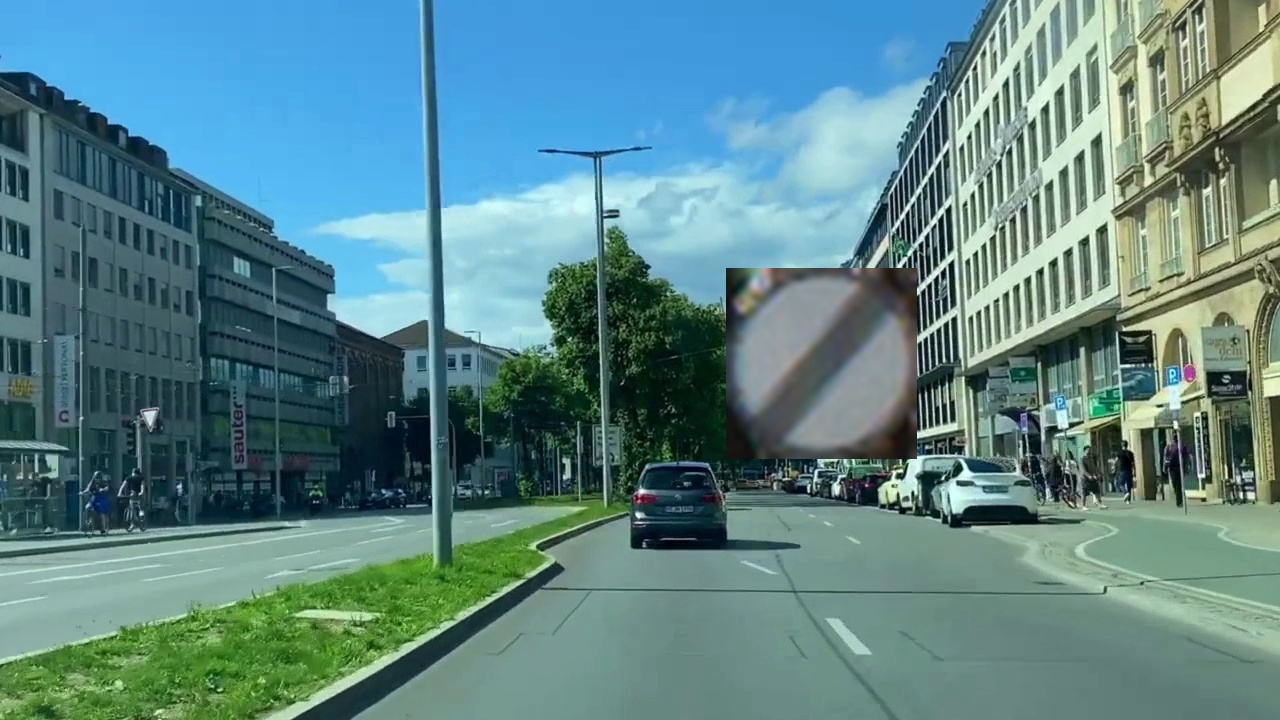End limits: (726, 268, 917, 459)
